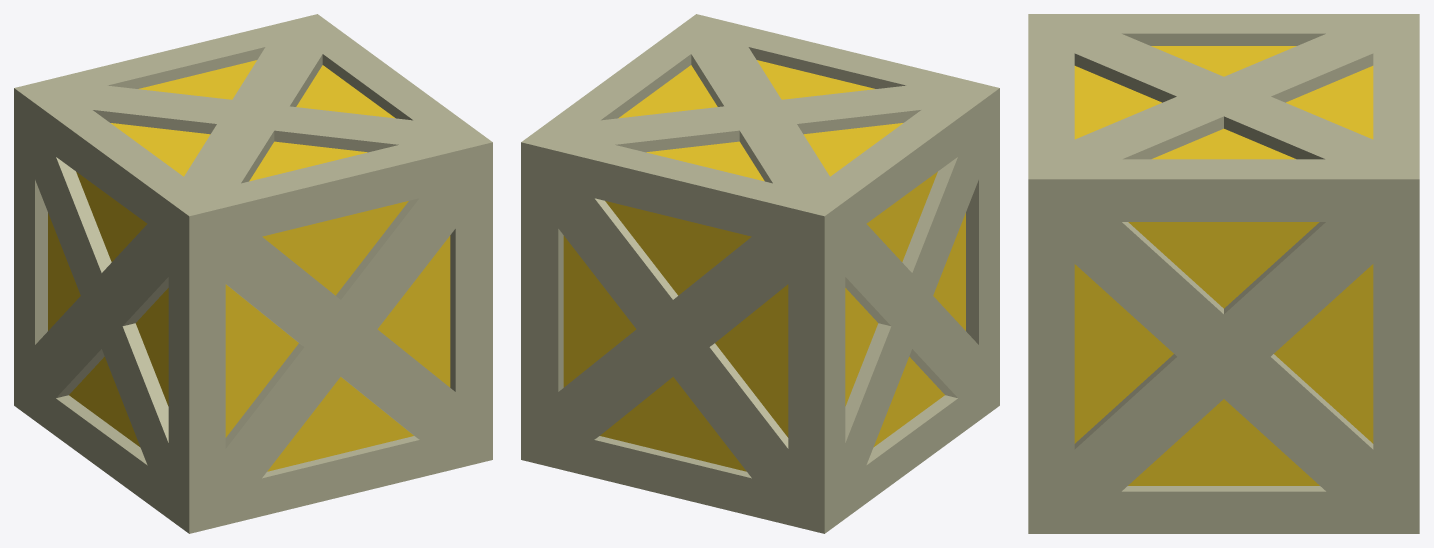
File: mercadoria.fbx
The picture shows the model from 3 angles, left to right: view 1: azimuth 30°, elevation 25°; view 2: azimuth 150°, elevation 25°; view 3: azimuth 270°, elevation 25°; orthographic projection. The views are drawn at different scales.
Parts seen in each view (by area): view 1: Cube; view 2: Cube; view 3: Cube.
Boxes of the visible parts, x1,y1,x2,y2 form: Cube: (14, 14, 492, 533); Cube: (521, 14, 999, 533); Cube: (1028, 14, 1419, 533).
Bounding box in the file's own units: 311 × 311 × 311.
